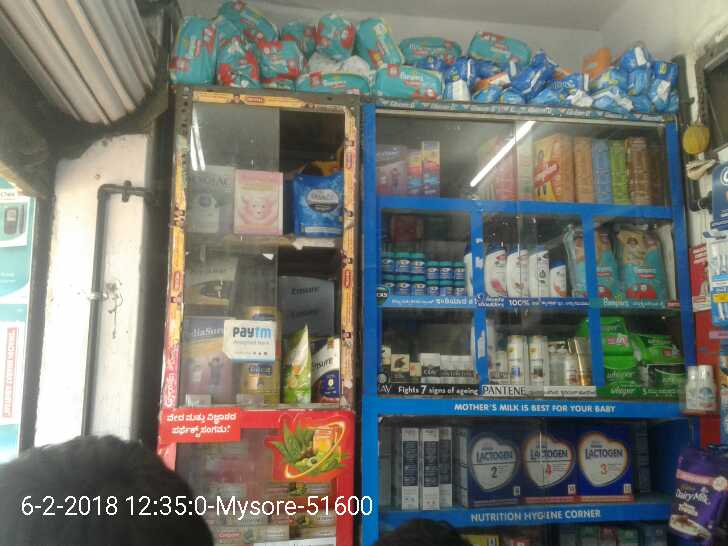beauty: (527, 244, 551, 299), (506, 242, 529, 298), (528, 335, 548, 387), (486, 247, 506, 298), (508, 335, 527, 387), (419, 353, 439, 387), (390, 353, 410, 383), (551, 262, 568, 297), (457, 356, 475, 386), (438, 356, 457, 384)
pharmacy: (621, 229, 666, 302), (571, 229, 616, 298), (702, 235, 728, 323), (631, 328, 682, 365), (604, 354, 640, 388), (589, 315, 627, 345), (646, 362, 687, 387), (408, 253, 425, 275), (394, 275, 411, 296), (393, 254, 410, 274), (410, 275, 424, 297), (424, 280, 439, 298), (382, 252, 394, 273), (427, 260, 439, 280), (380, 274, 395, 290), (438, 260, 451, 278), (453, 280, 467, 296), (439, 282, 453, 298), (453, 262, 466, 278)
